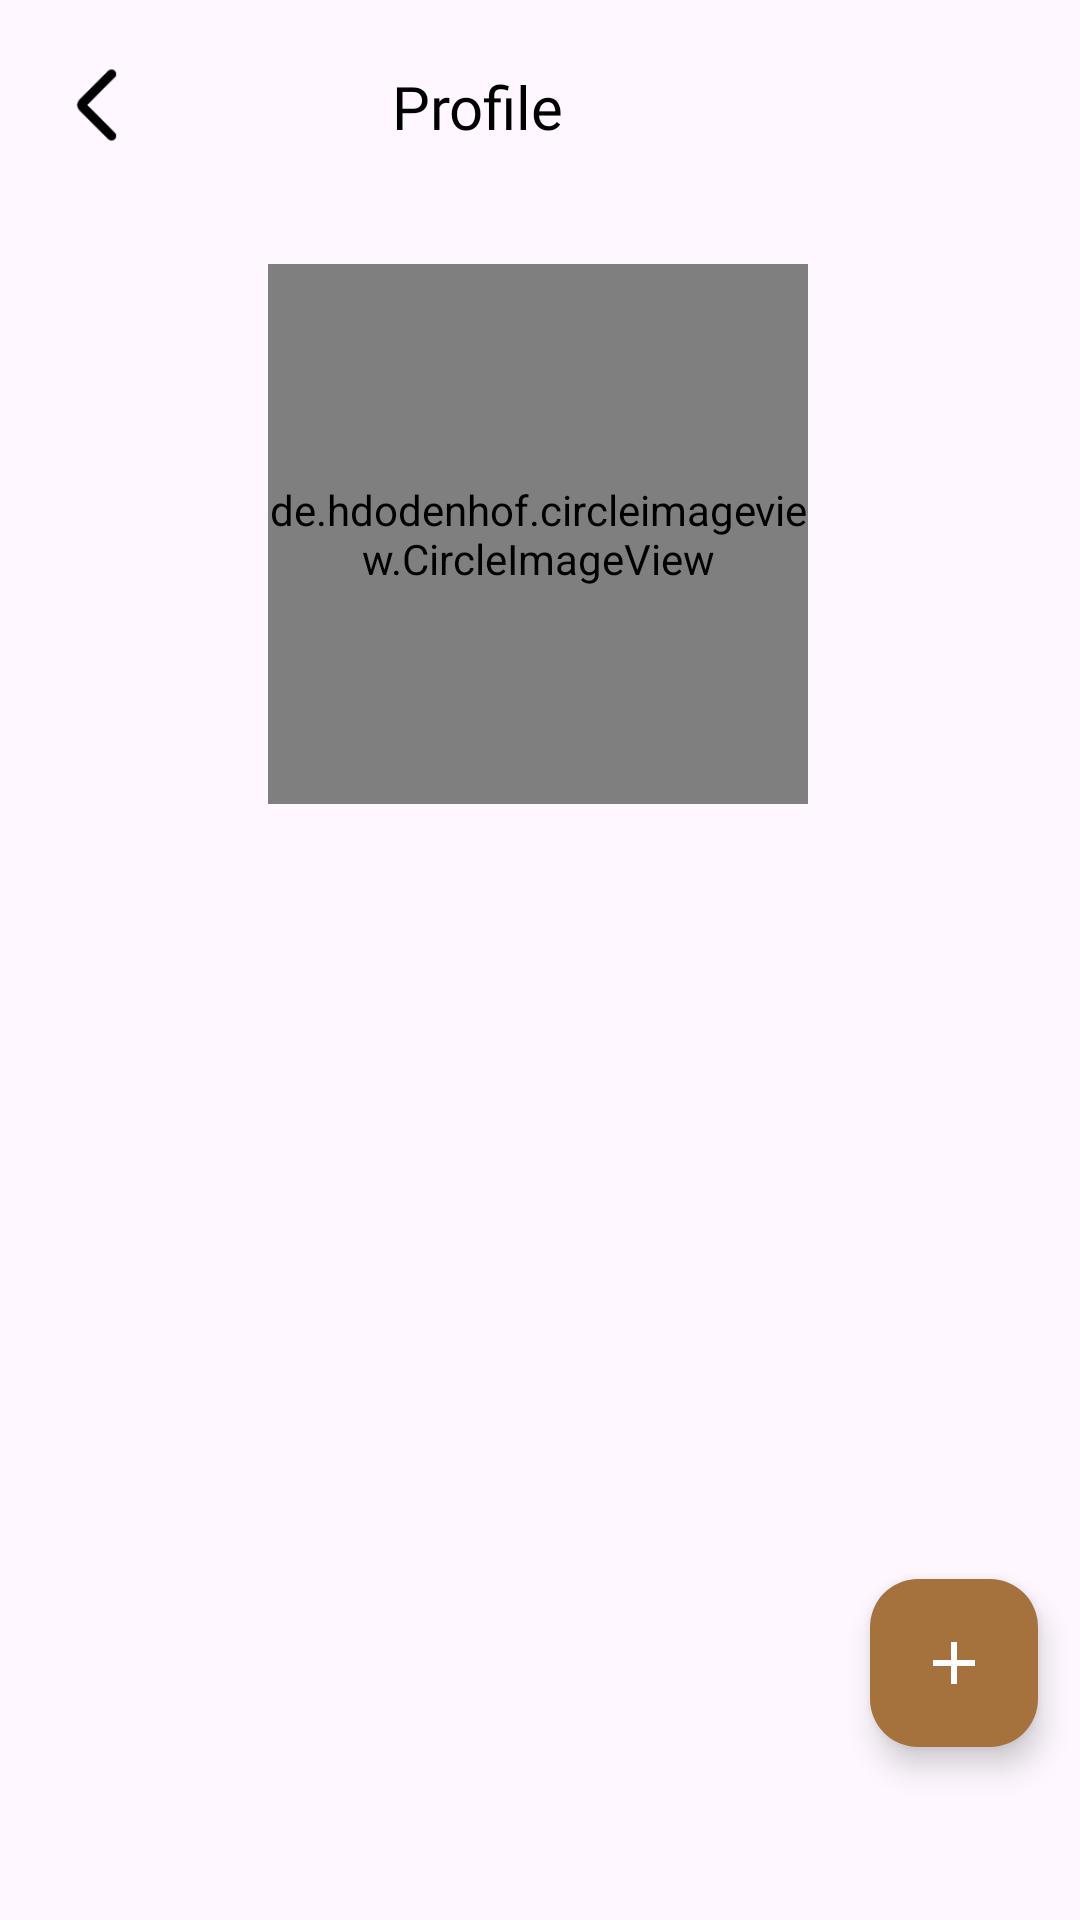

Where icons sit on this 1080x1920 app screen, as bbox(x1, y1, x2, y2):
add: bbox(870, 1579, 1038, 1747)
back: bbox(76, 69, 117, 141)
